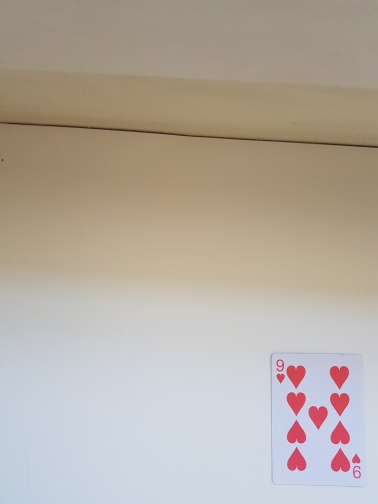nine: (270, 352, 367, 487)
